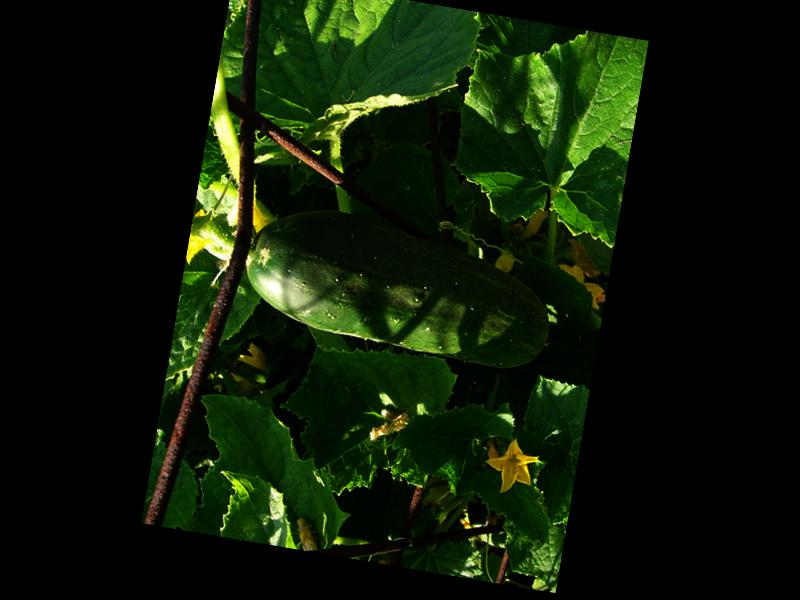Cucumber: (236, 194, 564, 375)
